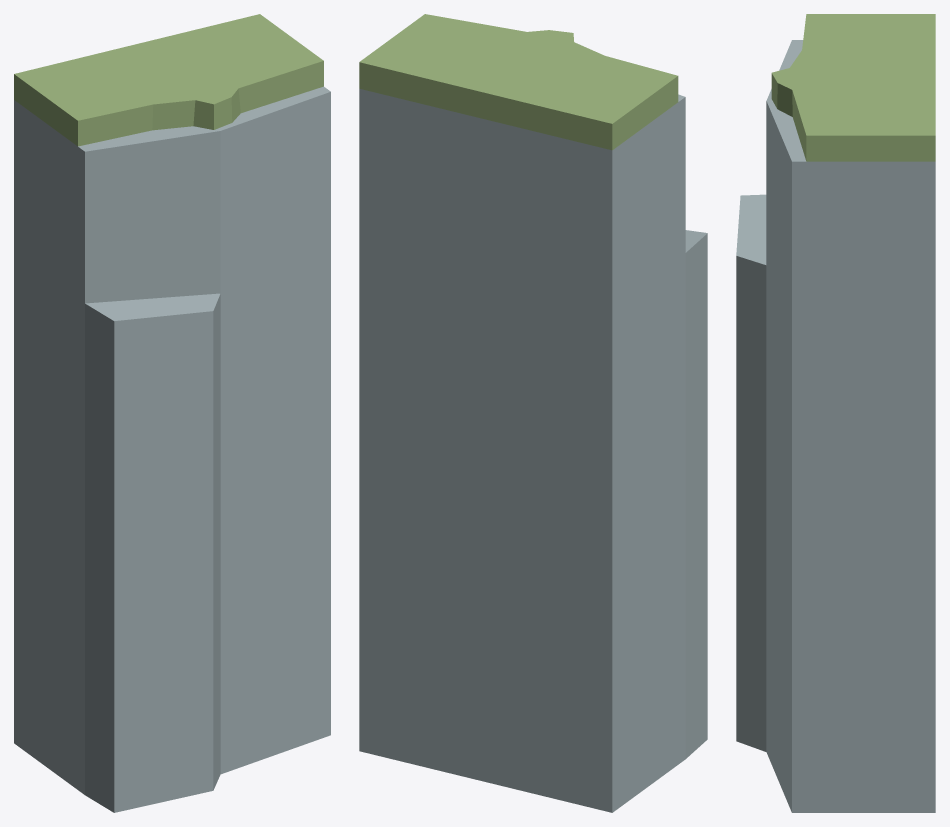
The model's file is Dual_Grid_L_L_W_W.fbx.
3 renders of one model, left to right at view 1: azimuth 30°, elevation 25°; view 2: azimuth 150°, elevation 25°; view 3: azimuth 270°, elevation 25°, orthographic. The views are drawn at different scales.
Visible parts, largest first — view 1: Tile_L_L_W_W; view 2: Tile_L_L_W_W; view 3: Tile_L_L_W_W.
Part boxes in pixels (x1=…): Tile_L_L_W_W: x1=14, y1=14, x2=330, y2=812; Tile_L_L_W_W: x1=359, y1=14, x2=707, y2=812; Tile_L_L_W_W: x1=736, y1=14, x2=935, y2=812.
Size of the model in its own units: 100 by 69.38 by 260.
